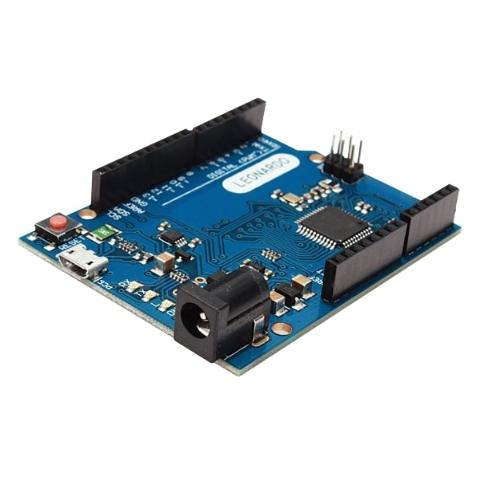Arduino-Leonardo: (16, 96, 467, 380)
